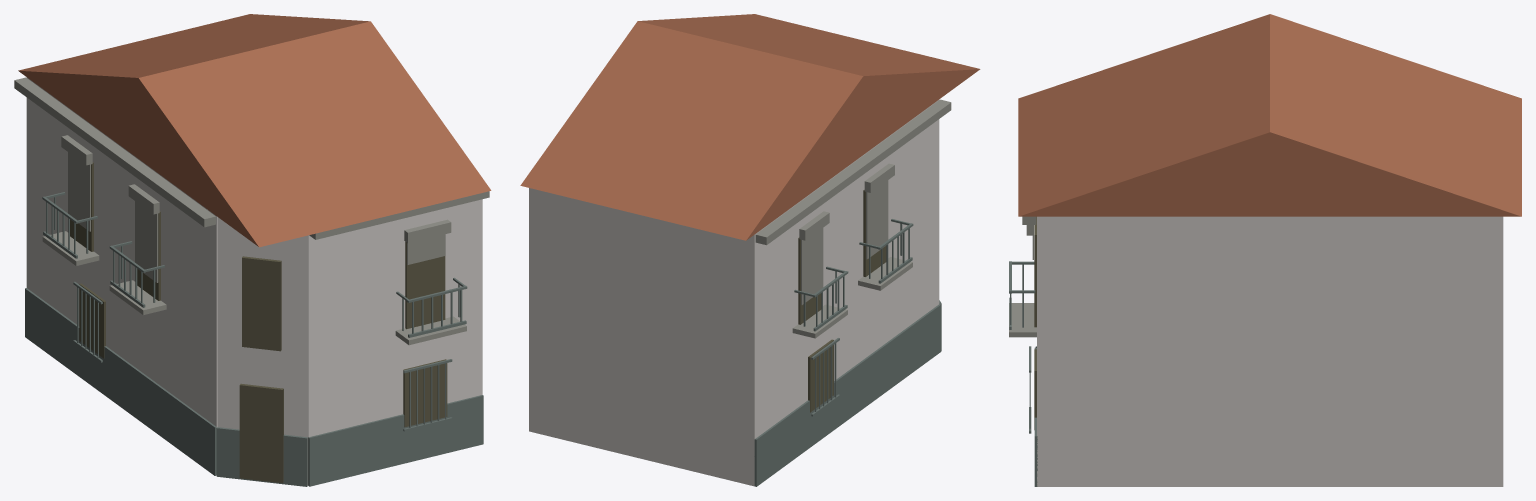
The model's file is SM_Esquina_v0_DosPlantas_LOD0.fbx.
The picture shows the model from 3 angles, left to right: view 1: azimuth 30°, elevation 25°; view 2: azimuth 150°, elevation 25°; view 3: azimuth 270°, elevation 25°; orthographic projection. The views are drawn at different scales.
Visible parts, largest first — view 1: SM_pueblo_valenciano_v0_LOD0; view 2: SM_pueblo_valenciano_v0_LOD0; view 3: SM_pueblo_valenciano_v0_LOD0.
Boxes of the visible parts, left/top/right/bottom form: SM_pueblo_valenciano_v0_LOD0: left=14, top=14, right=491, bottom=486; SM_pueblo_valenciano_v0_LOD0: left=520, top=14, right=980, bottom=486; SM_pueblo_valenciano_v0_LOD0: left=1009, top=14, right=1521, bottom=486.
Size of the model in its own units: 6.6 by 8.4 by 11.
